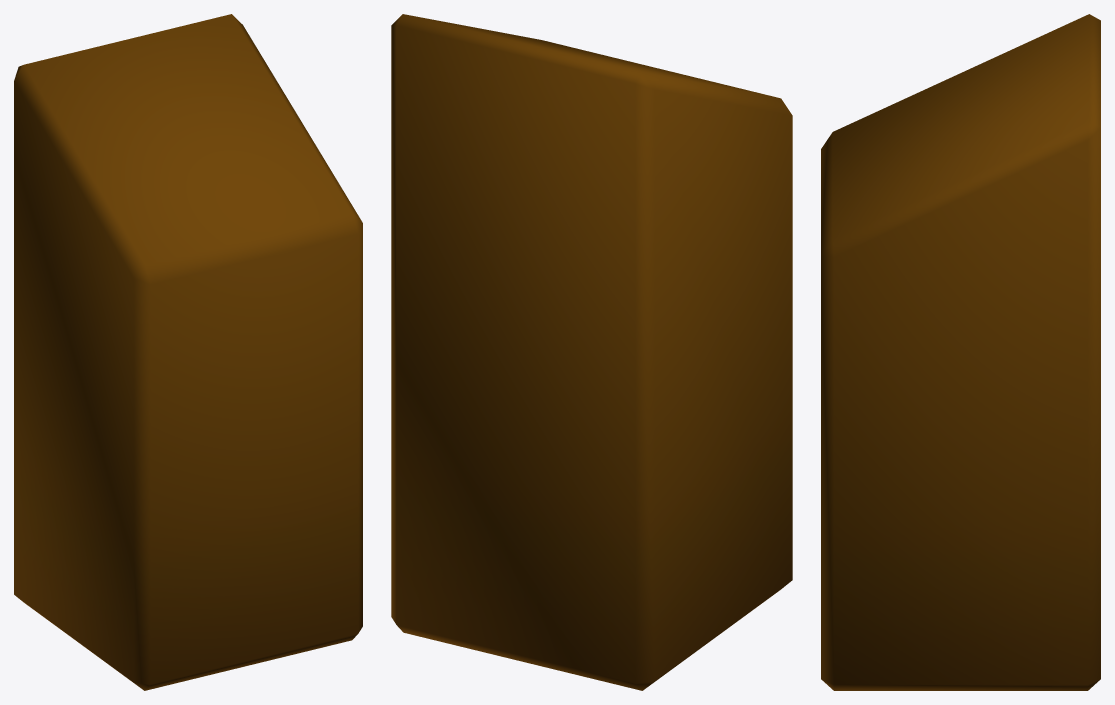
The model's file is Knife_organizer.fbx.
3 views of the same model, side by side, from view 1: azimuth 30°, elevation 25°; view 2: azimuth 150°, elevation 25°; view 3: azimuth 270°, elevation 25° (orthographic). The views are drawn at different scales.
Visible parts, largest first — view 1: Knife_organizer; view 2: Knife_organizer; view 3: Knife_organizer.
Part boxes in pixels (x1,y1,x2,y2): Knife_organizer: (14, 14, 362, 690); Knife_organizer: (391, 14, 792, 690); Knife_organizer: (821, 14, 1100, 690).
Bounding box in the file's own units: 35.13 × 35.13 × 78.93.
